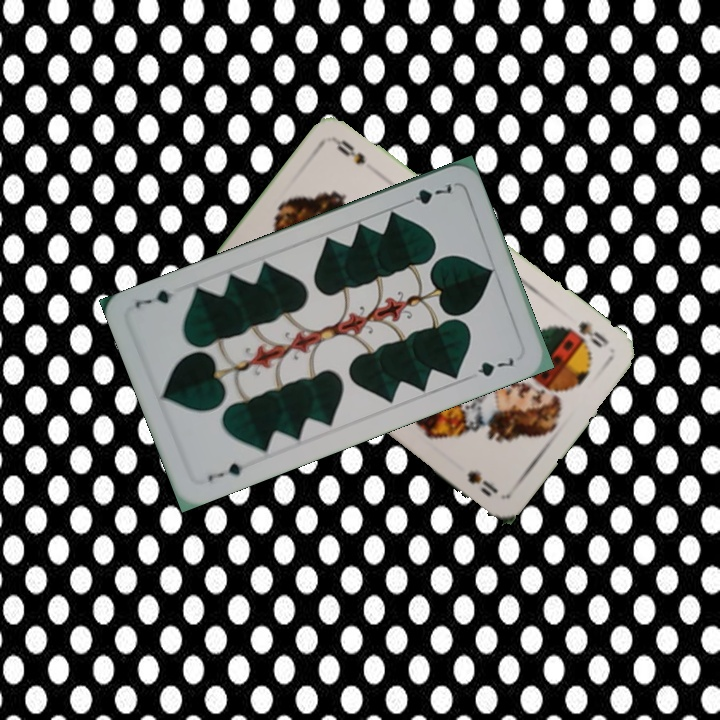G7: (400, 180, 455, 209), (203, 458, 246, 484)
SO: (574, 317, 612, 351)
